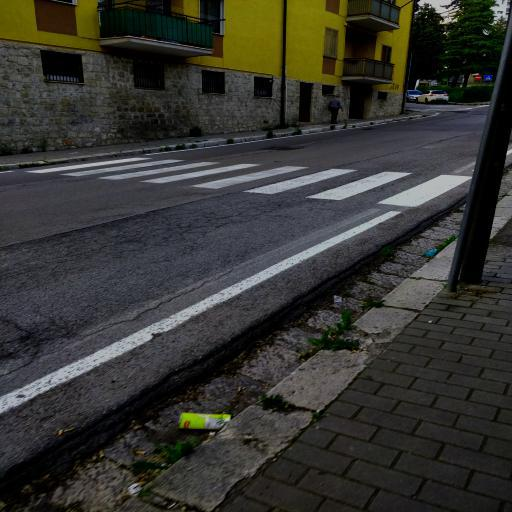crosswalk: (236, 162, 416, 202)
